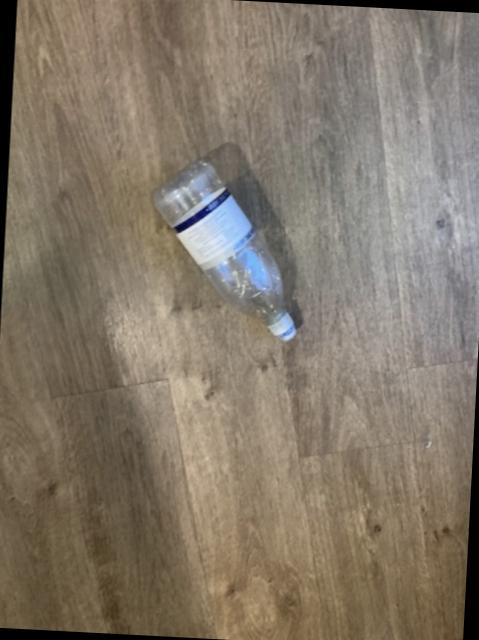plastic: (152, 163, 293, 341)
